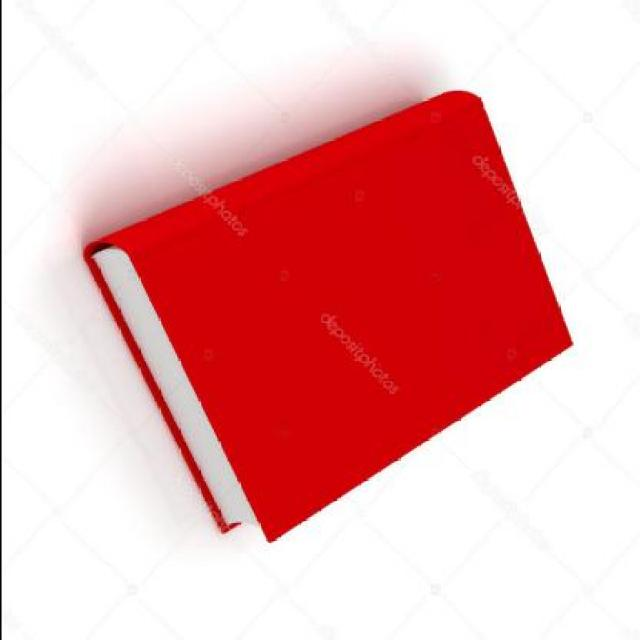book: (63, 49, 602, 546)
